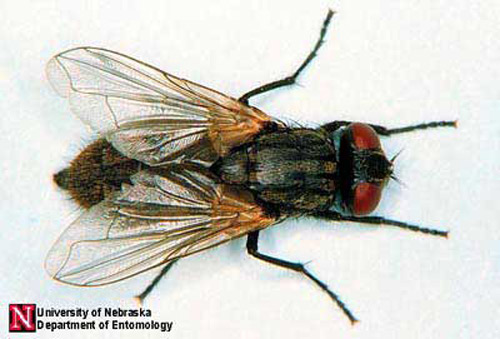phorid fly: (13, 1, 486, 292)
